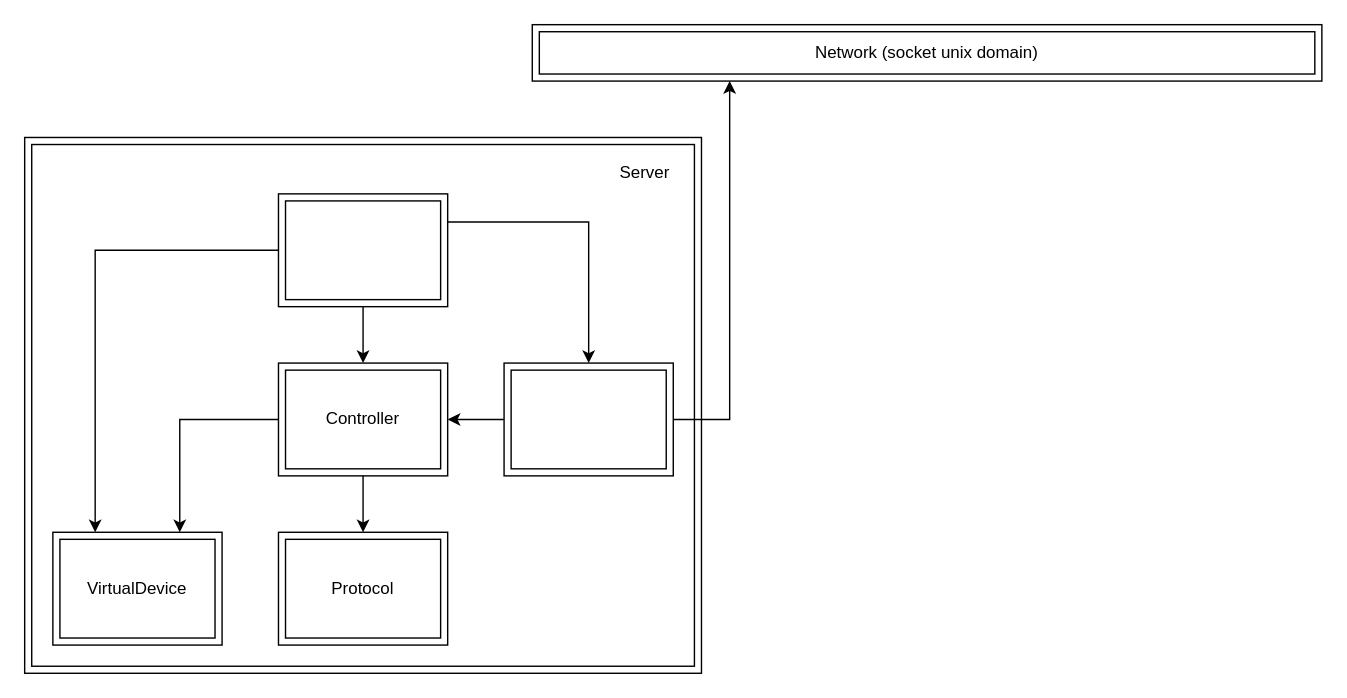
Image size: 1347x698. Some labels were removed from this diagram. The shapes that lost their labels are listed below. From the top down, each one's box as (x1, y1, x2, y2) in pixels, then its label:
(277, 192, 448, 307): Main
(503, 362, 673, 476): NetInterface
